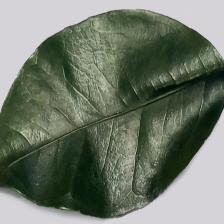healthy: (7, 24, 214, 211)
